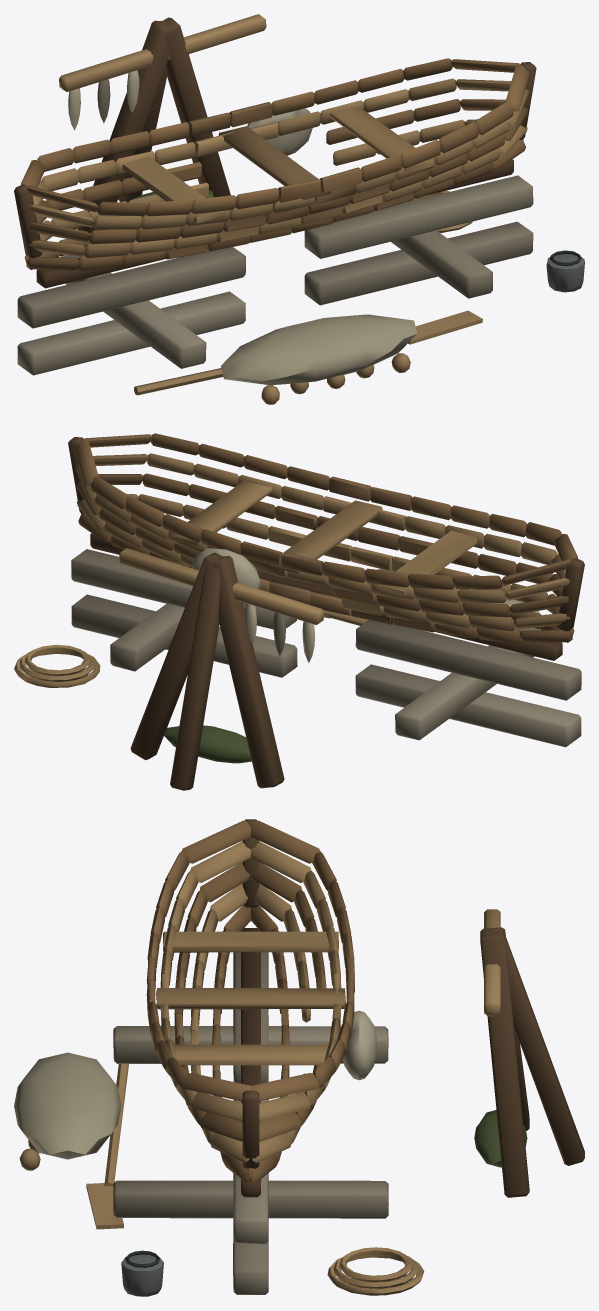
File: skiff_on_blocks_b_lod1.glb
The picture shows the model from 3 angles, top to bottom: view 1: azimuth 30°, elevation 25°; view 2: azimuth 150°, elevation 25°; view 3: azimuth 270°, elevation 25°; orthographic projection. The views are drawn at different scales.
Parts seen in each view (by area): view 1: Surface.001; view 2: Surface.001; view 3: Surface.001.
Part boxes in pixels (x1,y1,x2,y2): Surface.001: (14, 14, 584, 404); Surface.001: (14, 433, 584, 790); Surface.001: (14, 819, 584, 1296).
Size of the model in its own units: 7.93 by 3.09 by 6.86.
